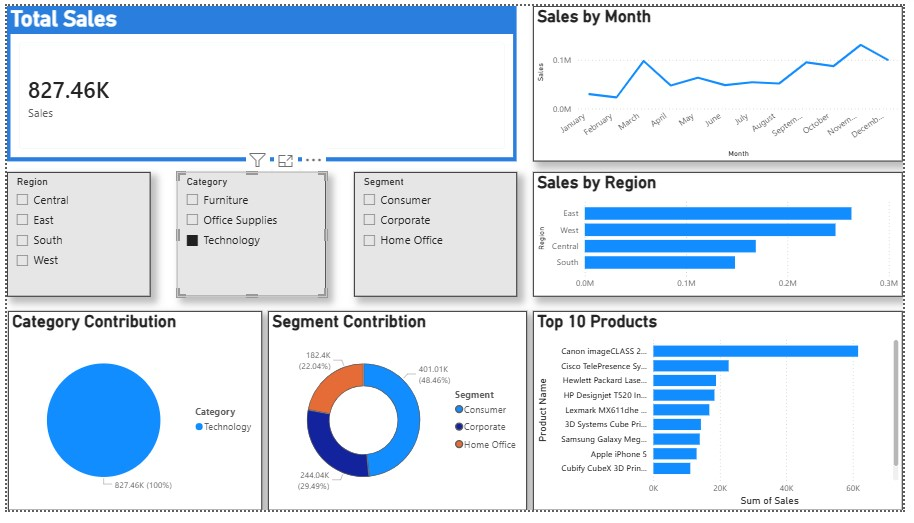

This screenshot's page, from the dashboard's own definition file:
{"tool":"powerbi","page":{"name":"Page 1","canvas":[1280,720],"ordinal":0},"visuals":[{"type":"cardVisual","title":"Total Sales","fields":{"Data":["Sum(train - CLean.Sales)"]},"box":[0,0,728.3,221.7],"z":0},{"type":"clusteredBarChart","fields":{"Category":["train - CLean.Region"],"Y":["Sum(train - CLean.Sales)"]},"box":[751.7,236.7,528.3,178.3],"z":1000},{"type":"pieChart","title":"Category Contribution","fields":{"Category":["train - CLean.Category"],"Y":["Sum(train - CLean.Sales)"]},"box":[1.7,435,363.3,285],"z":2000},{"type":"lineChart","fields":{"Category":["train - CLean.Order Date.Variation.Date Hierarchy.Year","train - CLean.Order Date.Variation.Date Hierarchy.Quarter","train - CLean.Order Date.Variation.Date Hierarchy.Month","train - CLean.Order Date.Variation.Date Hierarchy.Day"],"Y":["Sum(train - CLean.Sales)"]},"box":[751.7,0,528.3,221.7],"z":3000},{"type":"donutChart","title":"Segment Contribtion","fields":{"Category":["train - CLean.Segment"],"Y":["Sum(train - CLean.Sales)"]},"box":[373.3,435,370,285],"z":4000},{"type":"barChart","title":"Top 10 Products","fields":{"Category":["train - CLean.Product Name"],"Y":["Sum(train - CLean.Sales)"]},"box":[751.7,435,528.3,285],"z":5000},{"type":"slicer","fields":{"Values":["train - CLean.Region"]},"box":[0,236.7,205,178.3],"z":6000},{"type":"slicer","fields":{"Values":["train - CLean.Category"]},"box":[243.3,236.7,213.3,178.3],"z":7000},{"type":"slicer","fields":{"Values":["train - CLean.Segment"]},"box":[495,236.7,233.3,178.3],"z":8000}]}

Visuals, with their boxes in screenshot pixels (x1, y1, x2, y2), scaled from the page's 1280x720 canvas onto the 914x523 screenshot:
"Total Sales" cardVisual: (0, 0, 520, 161)
clusteredBarChart - train - CLean.Region x Sum(train - CLean.Sales): (537, 172, 913, 301)
"Category Contribution" pieChart: (1, 316, 261, 522)
lineChart - train - CLean.Order Date.Variation.Date Hierarchy.Year x train - CLean.Order Date.Variation.Date Hierarchy.Quarter: (537, 0, 913, 161)
"Segment Contribtion" donutChart: (267, 316, 531, 522)
"Top 10 Products" barChart: (537, 316, 913, 522)
slicer - train - CLean.Region: (0, 172, 146, 301)
slicer - train - CLean.Category: (174, 172, 326, 301)
slicer - train - CLean.Segment: (353, 172, 520, 301)
